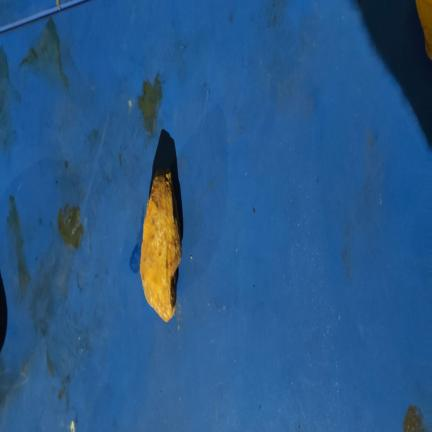Rocks: (140, 170, 181, 321), (416, 0, 431, 59)
